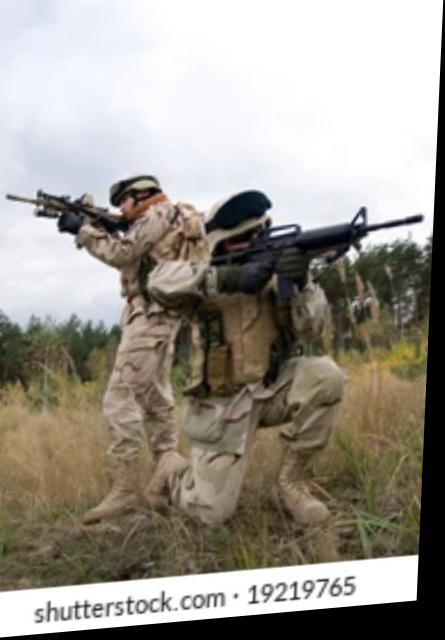other: (175, 184, 346, 525), (88, 172, 199, 506)
